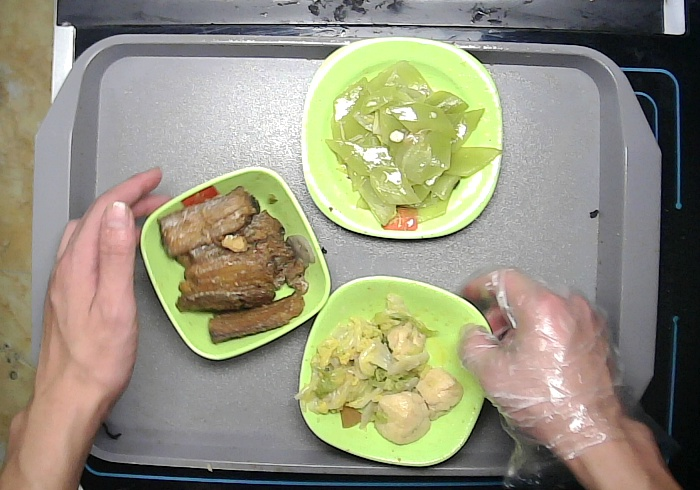SHKJ-Lv_Se_Cai_Die: (298, 274, 494, 467)
SHKJ-Lv_Se_Si_Fang_Cai_Die: (298, 36, 502, 240)
SHKJ-Lv_Se_Xiao_Fang_Die: (140, 166, 331, 362)
